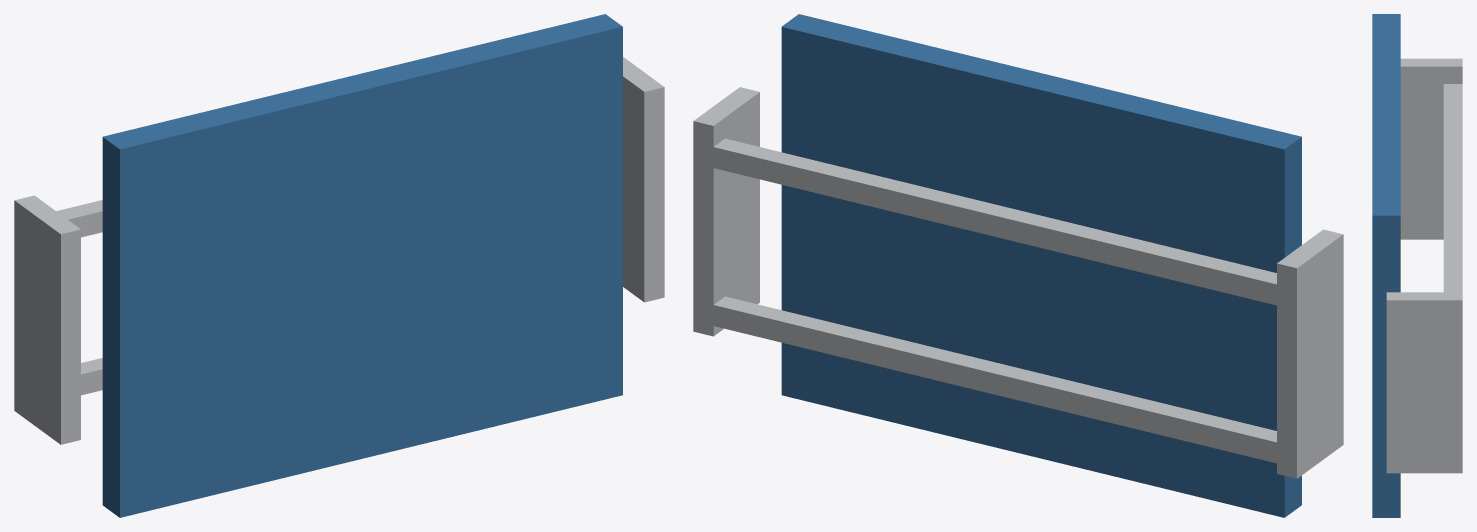
The model's file is towel-rail.obj.
The picture shows the model from 3 angles, left to right: view 1: azimuth 30°, elevation 25°; view 2: azimuth 150°, elevation 25°; view 3: azimuth 270°, elevation 25°; orthographic projection. The views are drawn at different scales.
Parts seen in each view (by area): view 1: towel-rail_4, towel-rail_2, towel-rail_3, towel-rail_0, towel-rail_1; view 2: towel-rail_4, towel-rail_0, towel-rail_1, towel-rail_2, towel-rail_3; view 3: towel-rail_3, towel-rail_4, towel-rail_2, towel-rail_0, towel-rail_1.
Boxes of the visible parts, box(x1,y1,x2,y2) form: towel-rail_4: box(102, 14, 622, 517); towel-rail_2: box(14, 195, 80, 444); towel-rail_3: box(623, 57, 664, 302); towel-rail_0: box(14, 200, 102, 250); towel-rail_1: box(14, 358, 102, 408); towel-rail_4: box(781, 14, 1301, 517); towel-rail_0: box(693, 138, 1308, 310); towel-rail_1: box(693, 296, 1308, 468); towel-rail_2: box(1277, 229, 1343, 478); towel-rail_3: box(693, 87, 759, 336); towel-rail_3: box(1386, 292, 1462, 473); towel-rail_4: box(1372, 14, 1400, 517); towel-rail_2: box(1400, 58, 1462, 239); towel-rail_0: box(1443, 84, 1462, 334); towel-rail_1: box(1443, 447, 1462, 464).
Bounding box in the file's own units: 0.6 × 0.35 × 0.095.
